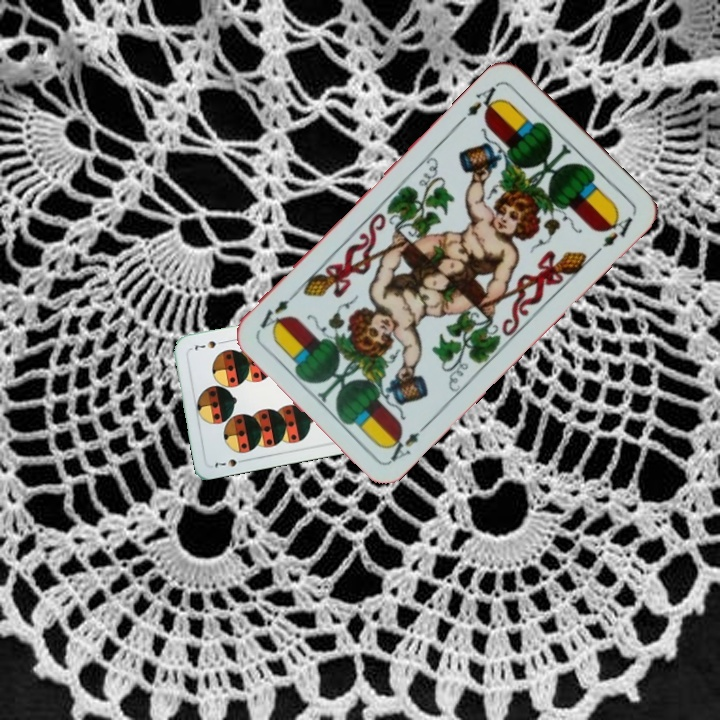EA: (383, 418, 432, 465), (463, 79, 504, 120)
S7: (211, 455, 249, 470)
